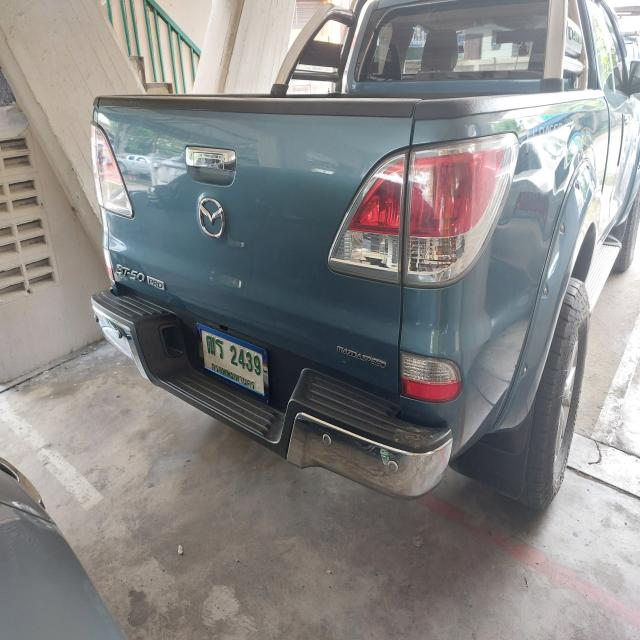license_plate: (194, 321, 270, 408)
